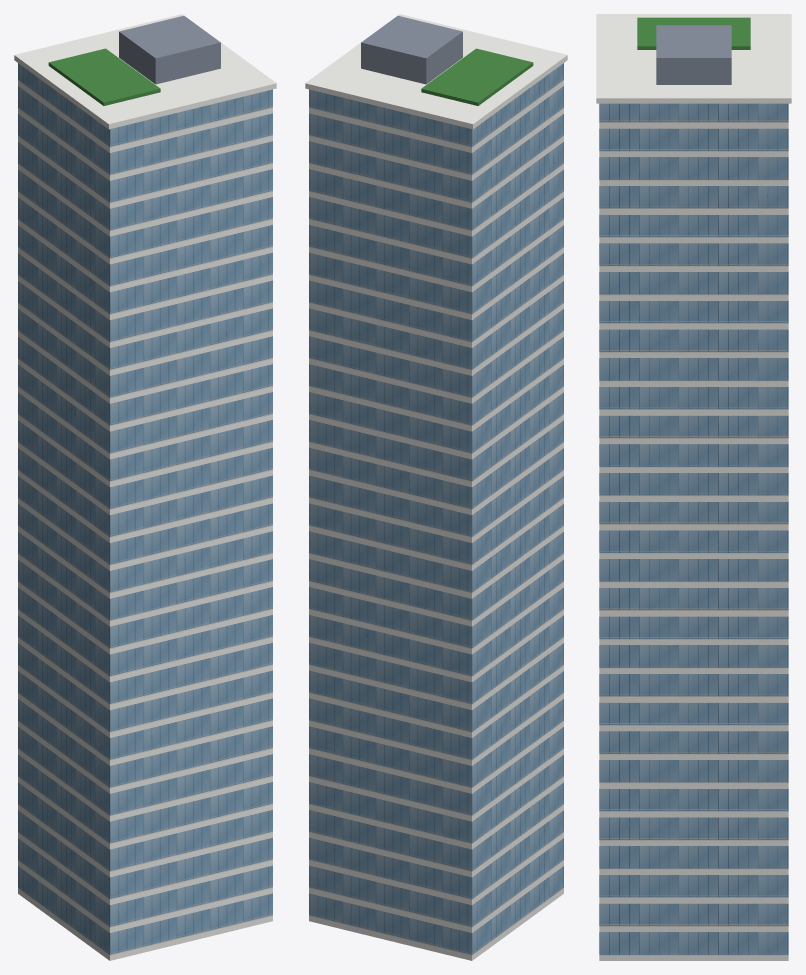
Rendered from modern_tower_b.glb.
3 views of the same model, side by side, from view 1: azimuth 30°, elevation 25°; view 2: azimuth 150°, elevation 25°; view 3: azimuth 270°, elevation 25° (orthographic). The views are drawn at different scales.
Parts seen in each view (by area): view 1: tower; view 2: tower; view 3: tower.
Boxes of the visible parts, x1=… form: tower: x1=14, y1=14, x2=276, y2=960; tower: x1=305, y1=14, x2=567, y2=960; tower: x1=596, y1=14, x2=791, y2=960.
Bounding box in the file's own units: 20.19 × 99.3 × 19.71.
4 materials, 1 textured.
